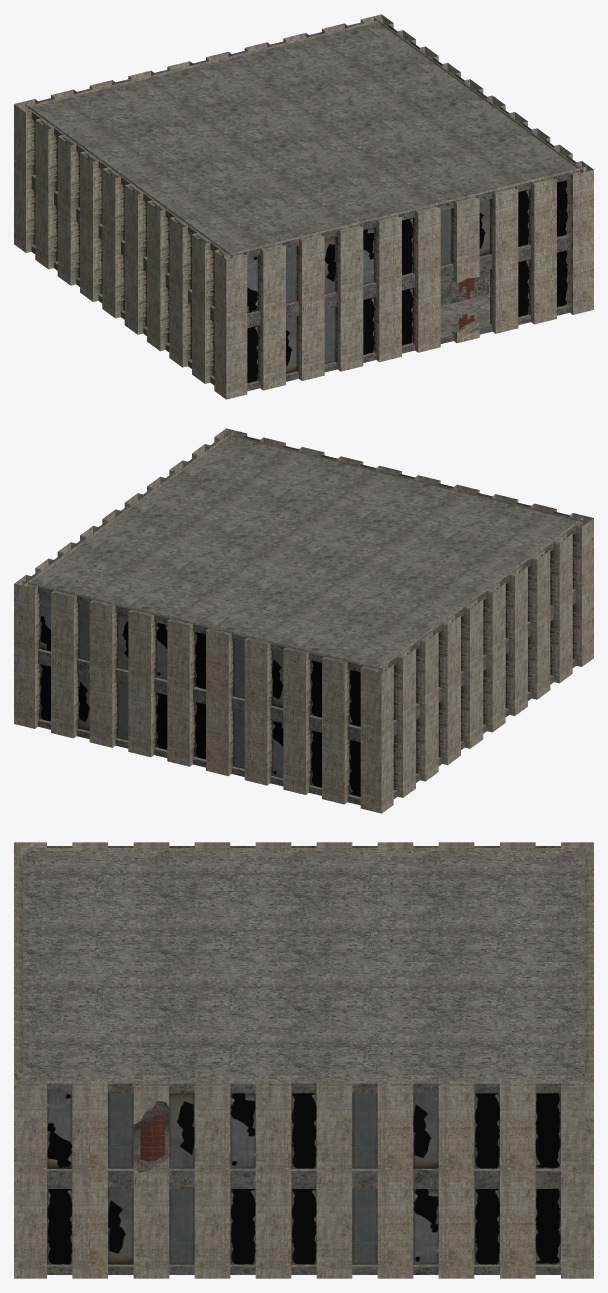
Rendered from Build3_el4.fbx.
The picture shows the model from 3 angles, top to bottom: view 1: azimuth 30°, elevation 25°; view 2: azimuth 150°, elevation 25°; view 3: azimuth 270°, elevation 25°; orthographic projection. The views are drawn at different scales.
Parts seen in each view (by area): view 1: polySurface237; view 2: polySurface237; view 3: polySurface237.
Boxes of the visible parts, <box> form: polySurface237: <box>14,14,593,399</box>; polySurface237: <box>14,428,593,813</box>; polySurface237: <box>14,842,593,1278</box>.
Size of the model in its own units: 41.84 by 15.24 by 41.84.
